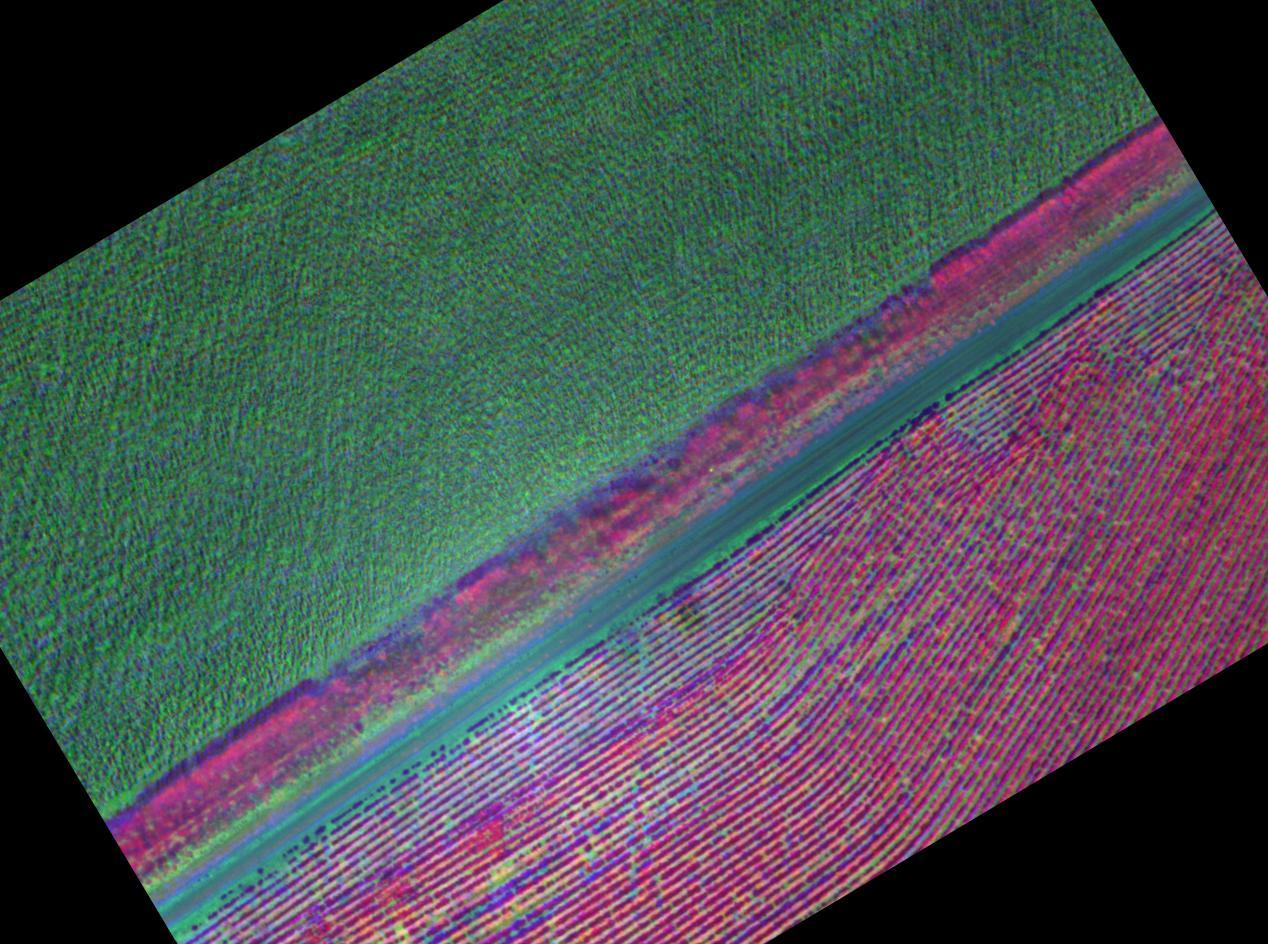dc: (655, 568, 745, 656), (466, 854, 550, 944), (568, 794, 654, 880)
